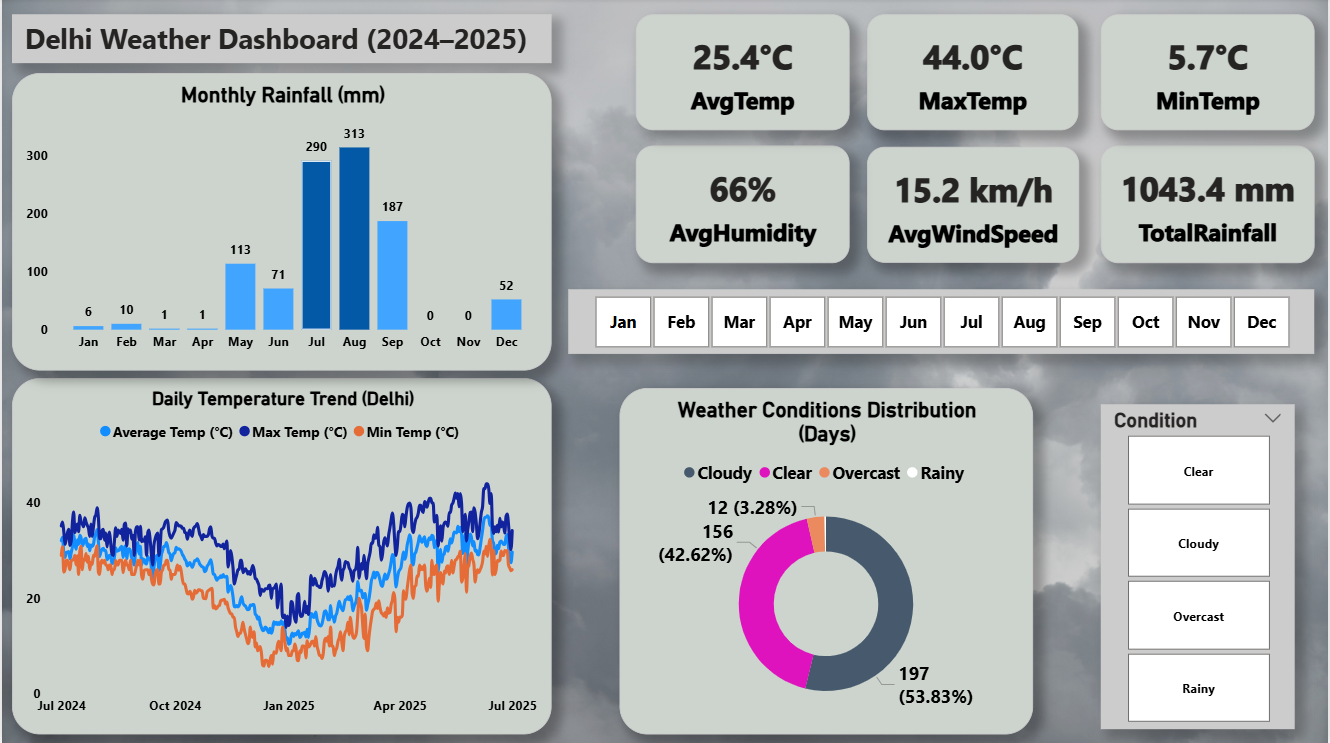

This screenshot's page, from the dashboard's own definition file:
{"tool":"powerbi","page":{"name":"Page 1","canvas":[1280,720],"ordinal":0},"visuals":[{"type":"card","fields":{"Values":["delhi_weather_1year_cleaned.MaxTemp"]},"box":[834.9,15.7,203.9,112.2],"z":0},{"type":"card","fields":{"Values":["delhi_weather_1year_cleaned.TotalRainfall"]},"box":[1060.5,142.4,206.3,113.4],"z":1000},{"type":"card","fields":{"Values":["delhi_weather_1year_cleaned.AvgWindSpeed"]},"box":[834.9,143.6,205.1,112.2],"z":2000},{"type":"card","fields":{"Values":["delhi_weather_1year_cleaned.AvgHumidity"]},"box":[611.7,142.4,206.3,113.4],"z":3000},{"type":"card","fields":{"Values":["delhi_weather_1year_cleaned.AvgTemp"]},"box":[611.7,15.7,206.3,112.2],"z":4000},{"type":"card","fields":{"Values":["delhi_weather_1year_cleaned.MinTemp"]},"box":[1060.5,15.7,206.3,112.2],"z":5000},{"type":"textbox","box":[9.7,15.7,521.2,47.1],"z":6000},{"type":"lineChart","title":"Daily Temperature Trend (Delhi)","fields":{"Category":["delhi_weather_1year_cleaned.Date"],"Y":["Avg(delhi_weather_1year_cleaned.TempAvg_C)","Max(delhi_weather_1year_cleaned.TempMax_C)","Min(delhi_weather_1year_cleaned.TempMin_C)"]},"box":[9.7,366.8,521.2,343.8],"z":7000},{"type":"clusteredColumnChart","title":"Monthly Rainfall (mm)","fields":{"Category":["delhi_weather_1year_cleaned.MonthName"],"Y":["Sum(delhi_weather_1year_cleaned.Precip_mm)"]},"box":[9.7,72.4,521.2,287.1],"z":8000},{"type":"donutChart","title":"Weather Conditions Distribution (Days)","fields":{"Y":["CountNonNull(delhi_weather_1year_cleaned.Date)"],"Category":["delhi_weather_1year_cleaned.WeatherGroup"]},"box":[596,376.4,399.3,334.2],"z":9000},{"type":"slicer","fields":{"Values":["delhi_weather_1year_cleaned.MonthName"]},"box":[546.5,281.1,720.2,62.7],"z":10000},{"type":"slicer","fields":{"Values":["delhi_weather_1year_cleaned.WeatherGroup"]},"box":[1060.5,392.1,187,313.7],"z":11000}]}

Visuals, with their boxes in screenshot pixels (x1, y1, x2, y2), scaled from the page's 1280x720 canvas onto the 1330x743 screenshot:
card - delhi_weather_1year_cleaned.MaxTemp: left=868, top=16, right=1079, bottom=132
card - delhi_weather_1year_cleaned.TotalRainfall: left=1102, top=147, right=1316, bottom=264
card - delhi_weather_1year_cleaned.AvgWindSpeed: left=868, top=148, right=1081, bottom=264
card - delhi_weather_1year_cleaned.AvgHumidity: left=636, top=147, right=850, bottom=264
card - delhi_weather_1year_cleaned.AvgTemp: left=636, top=16, right=850, bottom=132
card - delhi_weather_1year_cleaned.MinTemp: left=1102, top=16, right=1316, bottom=132
textbox: left=10, top=16, right=552, bottom=65
"Daily Temperature Trend (Delhi)" lineChart: left=10, top=379, right=552, bottom=733
"Monthly Rainfall (mm)" clusteredColumnChart: left=10, top=75, right=552, bottom=371
"Weather Conditions Distribution (Days)" donutChart: left=619, top=388, right=1034, bottom=733
slicer - delhi_weather_1year_cleaned.MonthName: left=568, top=290, right=1316, bottom=355
slicer - delhi_weather_1year_cleaned.WeatherGroup: left=1102, top=405, right=1296, bottom=728
